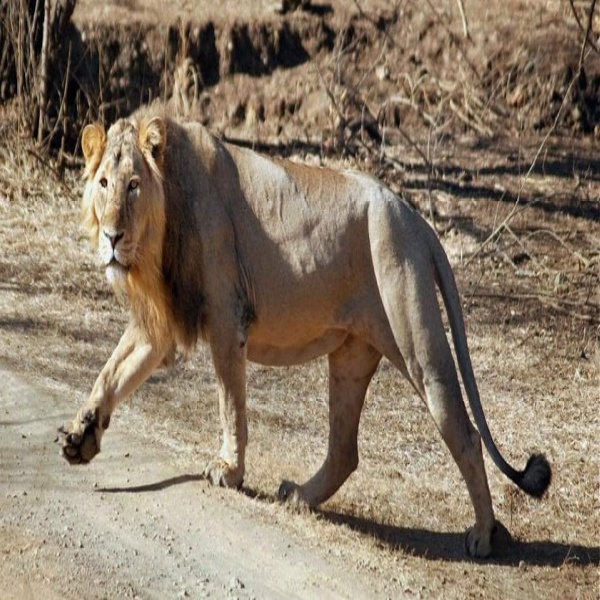Lion: (53, 111, 570, 559)
